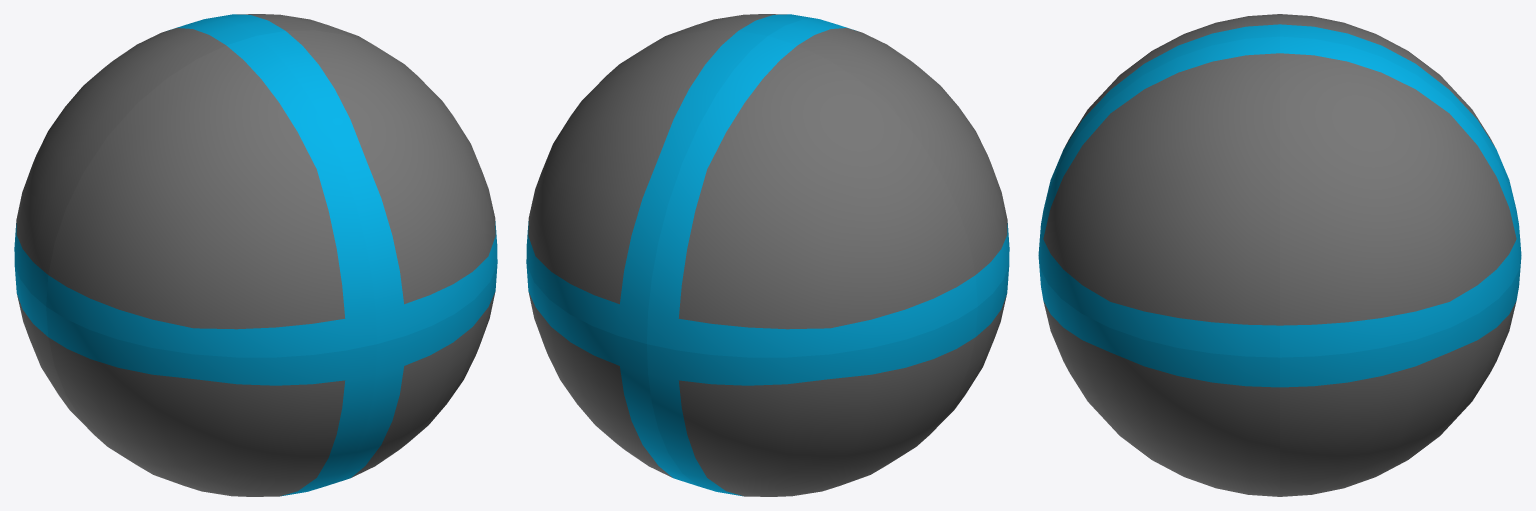
The model's file is Ball02.fbx.
3 views of the same model, side by side, from view 1: azimuth 30°, elevation 25°; view 2: azimuth 150°, elevation 25°; view 3: azimuth 270°, elevation 25° (orthographic).
Visible parts, largest first — view 1: Roundcube.001; view 2: Roundcube.001; view 3: Roundcube.001.
Boxes of the visible parts, x1=… form: Roundcube.001: x1=14, y1=14, x2=497, y2=496; Roundcube.001: x1=526, y1=14, x2=1009, y2=496; Roundcube.001: x1=1038, y1=14, x2=1521, y2=496.
Bounding box in the file's own units: 200 × 200 × 200.
